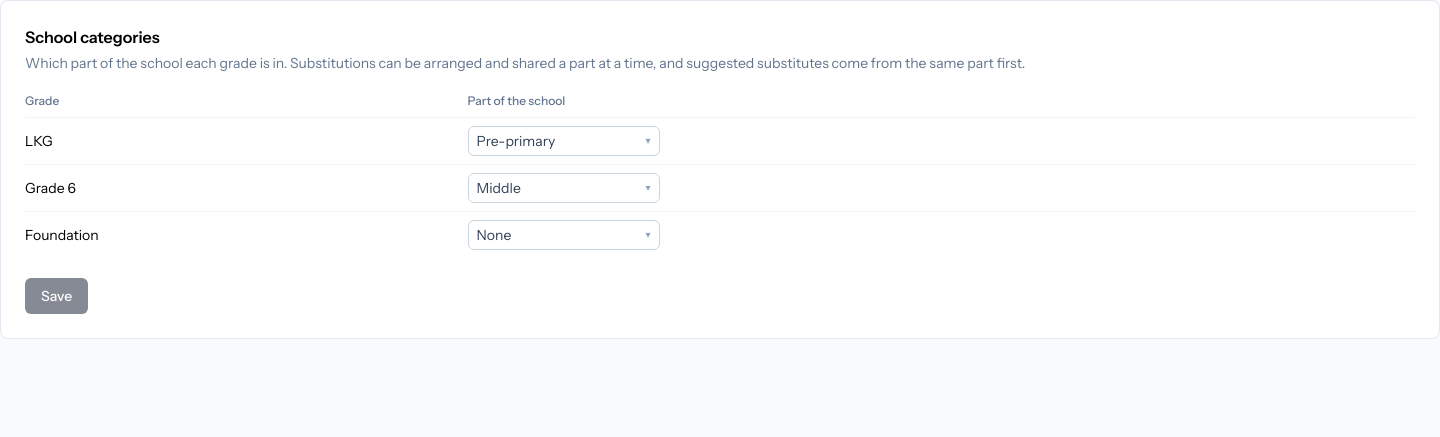
Test case: Settings > School categories › saves a change, showing the default beside it
This screenshot has width=1440, height=437.
Expected: the text "LKG" is shown, [25, 118, 468, 164]
Expected: the button "Save" is disabled, [25, 278, 88, 314]
What coordinates should you click on to do the following:
click the dropdown named "Part of the school for Grade 6"
I would click on:
 (564, 188)
Its box is [468, 173, 660, 203].
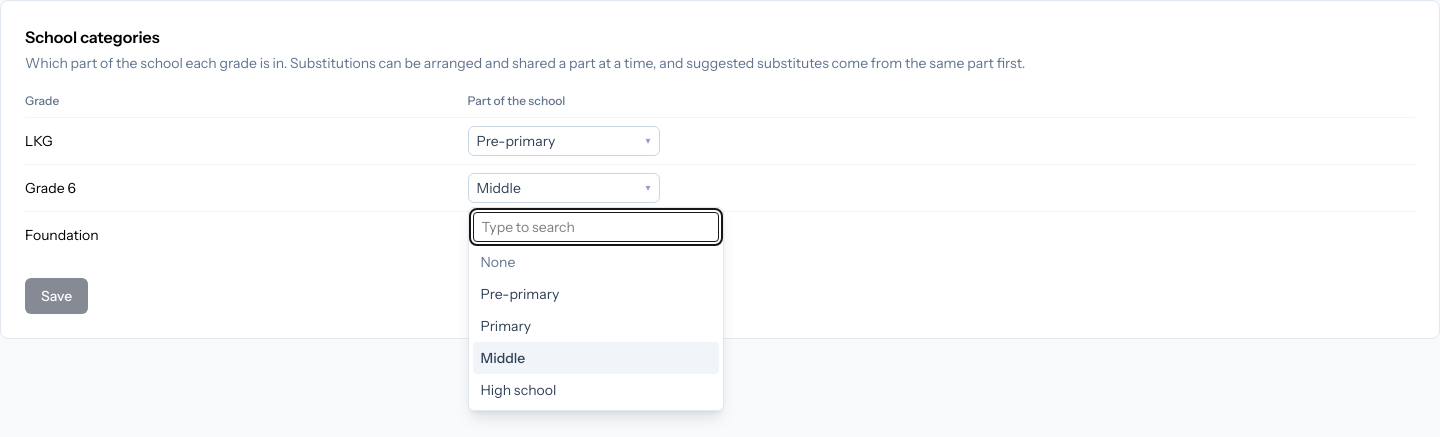
What coordinates should you click on to do the following:
click the option "Primary"
I would click on:
 (506, 326)
Its box is [481, 317, 531, 335].
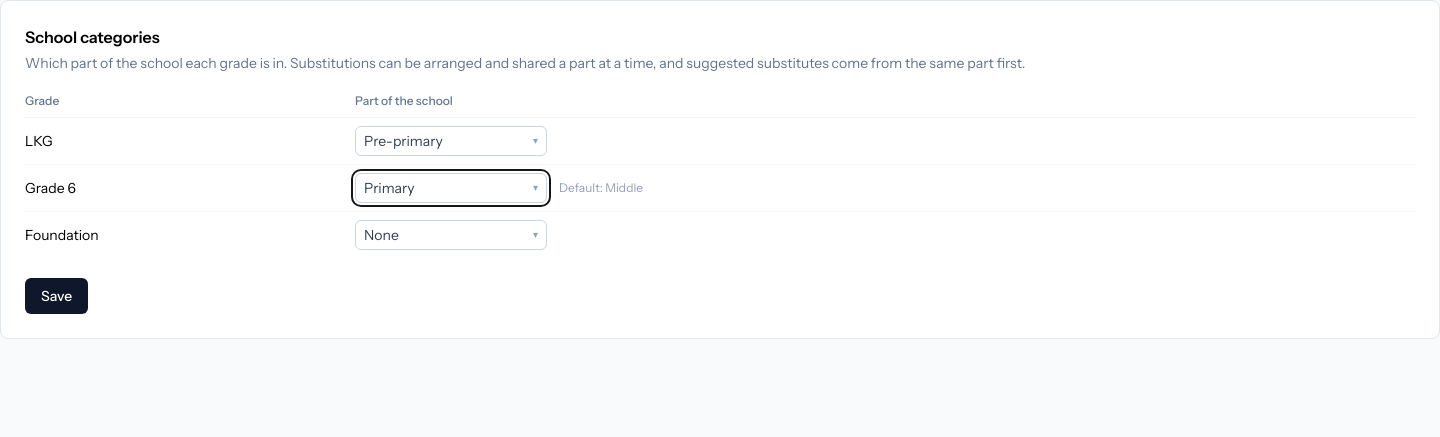
Result: the text "Default: Middle" is shown at [559, 180, 643, 196]
What coordinates should you click on to do the following:
click the button "Save"
I would click on:
 (57, 296)
Its box is [25, 278, 88, 314].
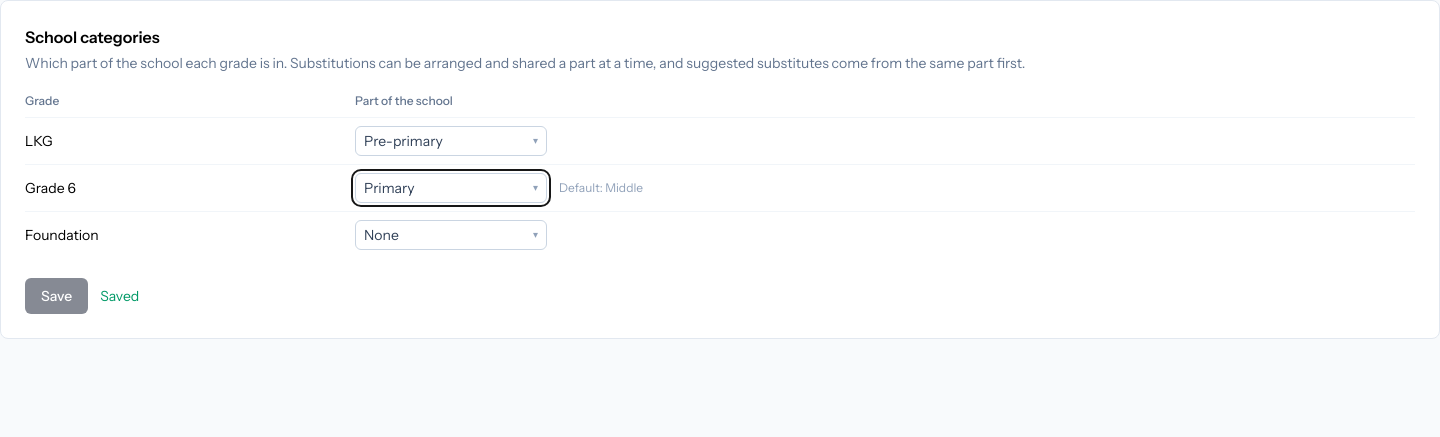
Result: the message reads "Saved" at [100, 287, 139, 305]
Result: the button "Save" is disabled at [25, 278, 88, 314]
